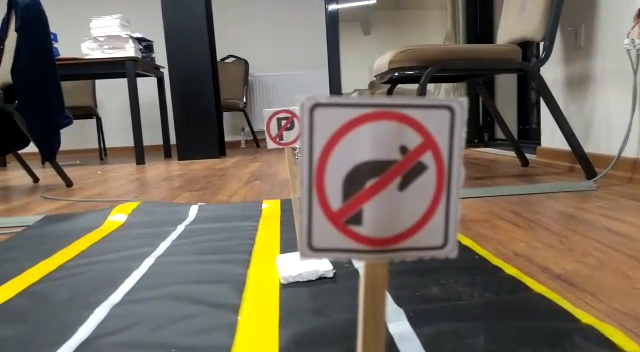park_yapilmaz: (261, 110, 300, 150)
saga_donulmez: (307, 106, 451, 253)
